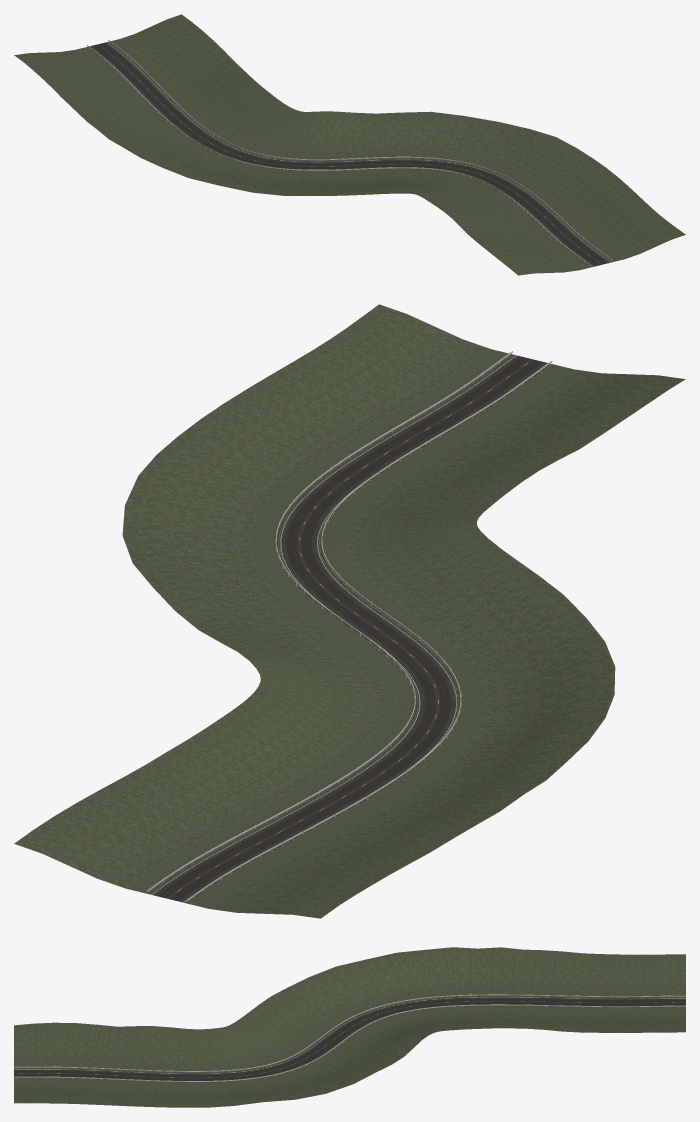
The picture shows the model from 3 angles, top to bottom: view 1: azimuth 30°, elevation 25°; view 2: azimuth 150°, elevation 25°; view 3: azimuth 270°, elevation 25°; orthographic projection. The views are drawn at different scales.
Parts seen in each view (by area): view 1: Grass, HighWay, GuardRail; view 2: Grass, HighWay, GuardRail; view 3: Grass, HighWay, GuardRail.
Part boxes in pixels (x1,y1,x2,y2): Grass: (14, 14, 685, 275); HighWay: (88, 42, 611, 266); GuardRail: (87, 40, 612, 266); Grass: (14, 304, 685, 918); HighWay: (148, 354, 550, 903); GuardRail: (147, 351, 552, 901); Grass: (14, 947, 685, 1107); HighWay: (14, 996, 685, 1082); GuardRail: (14, 994, 685, 1082).
Size of what is drawn, in the model's own units: 225 by 11.01 by 400.
